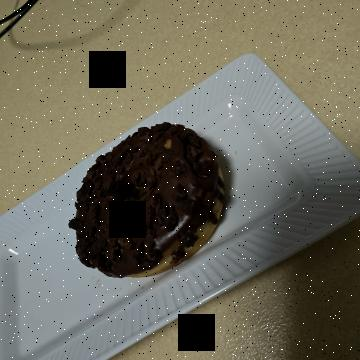doughnut: (112, 134, 297, 310)
